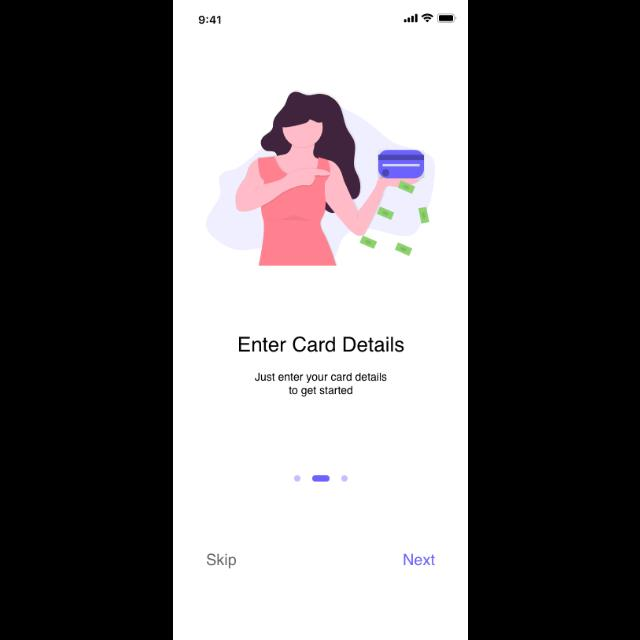image: (205, 92, 435, 266)
pageindicator: (294, 475, 348, 483)
text: (255, 372, 388, 398), (238, 336, 404, 352), (206, 553, 236, 569), (403, 552, 435, 566)
uppertaskbar: (198, 13, 456, 24)
